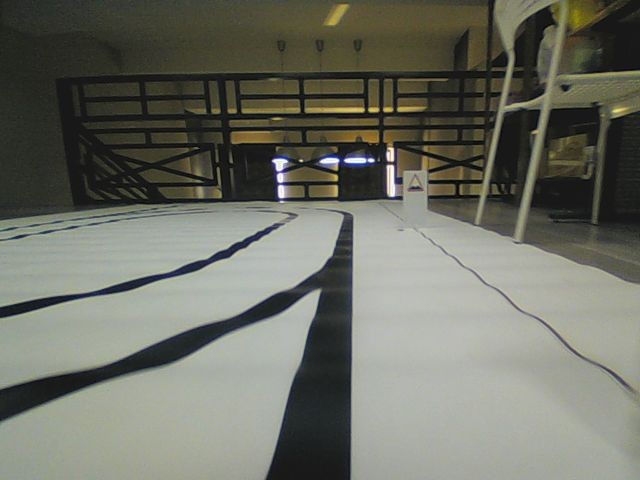Nerov: (405, 172, 425, 193)
